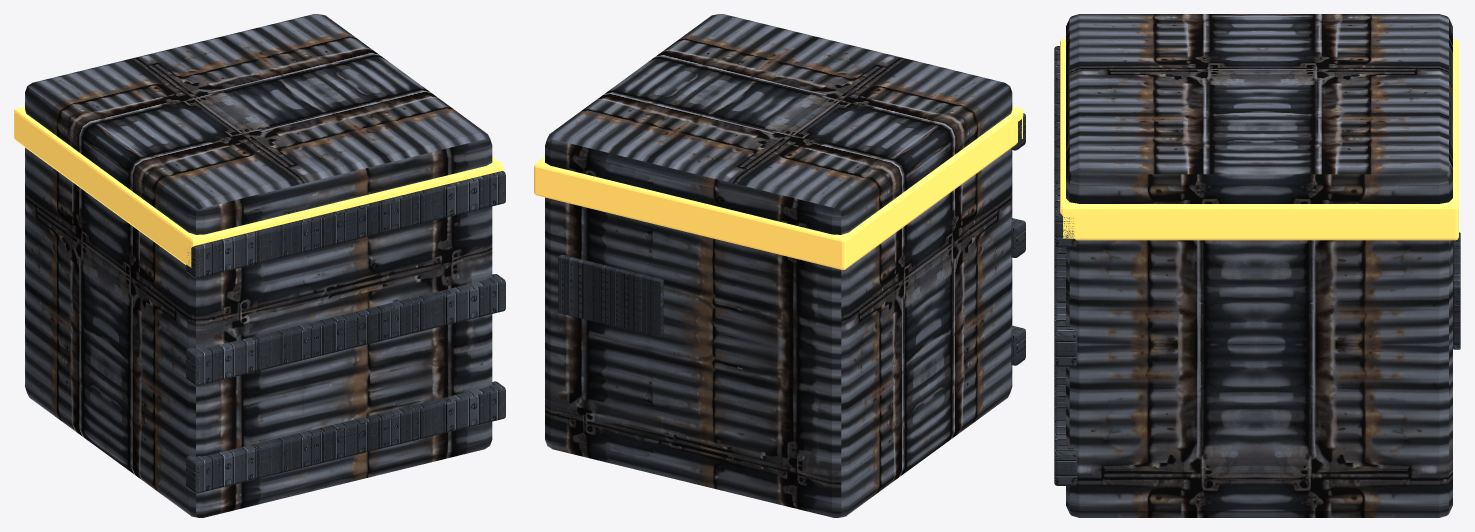
File: prop_crate.glb
3 renders of one model, left to right at view 1: azimuth 30°, elevation 25°; view 2: azimuth 150°, elevation 25°; view 3: azimuth 270°, elevation 25°, orthographic. The views are drawn at different scales.
Parts seen in each view (by area): view 1: body, rib_0, rib_1, rib_2, band; view 2: body, band, label; view 3: body, band, rib_1, rib_0, rib_2, label.
Part boxes in pixels (x1,y1,x2,y2): body: [25, 14, 492, 517]; rib_0: [186, 381, 505, 493]; rib_1: [186, 274, 505, 385]; rib_2: [186, 171, 505, 278]; band: [14, 106, 503, 267]; body: [545, 14, 1012, 517]; band: [534, 106, 1023, 269]; label: [558, 254, 663, 337]; body: [1066, 14, 1452, 517]; band: [1060, 39, 1458, 240]; rib_1: [1054, 245, 1077, 366]; rib_0: [1054, 364, 1077, 485]; rib_2: [1054, 46, 1077, 247]; label: [1453, 232, 1460, 349].
Size of the model in its own units: 1.03 by 1 by 1.05.
Materials: 3 (2 with a texture image).
